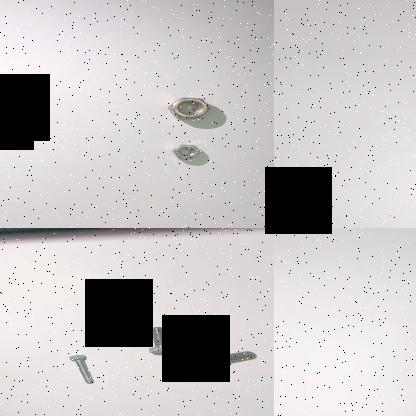Bolts: (141, 321, 183, 357), (206, 347, 258, 369), (67, 351, 97, 385)
NUTS: (158, 93, 216, 119), (170, 140, 202, 160)
